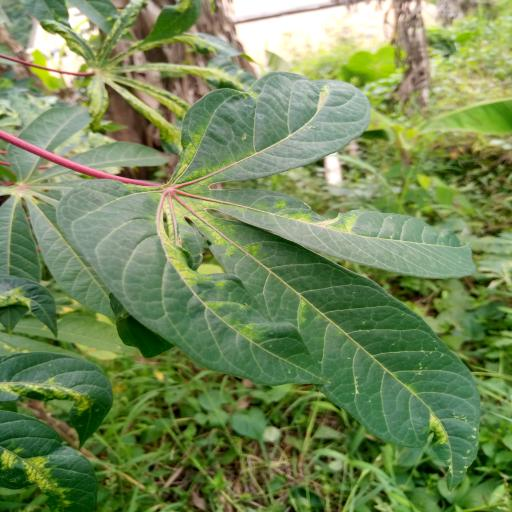Cassava_Mosaic: (57, 67, 512, 477)
